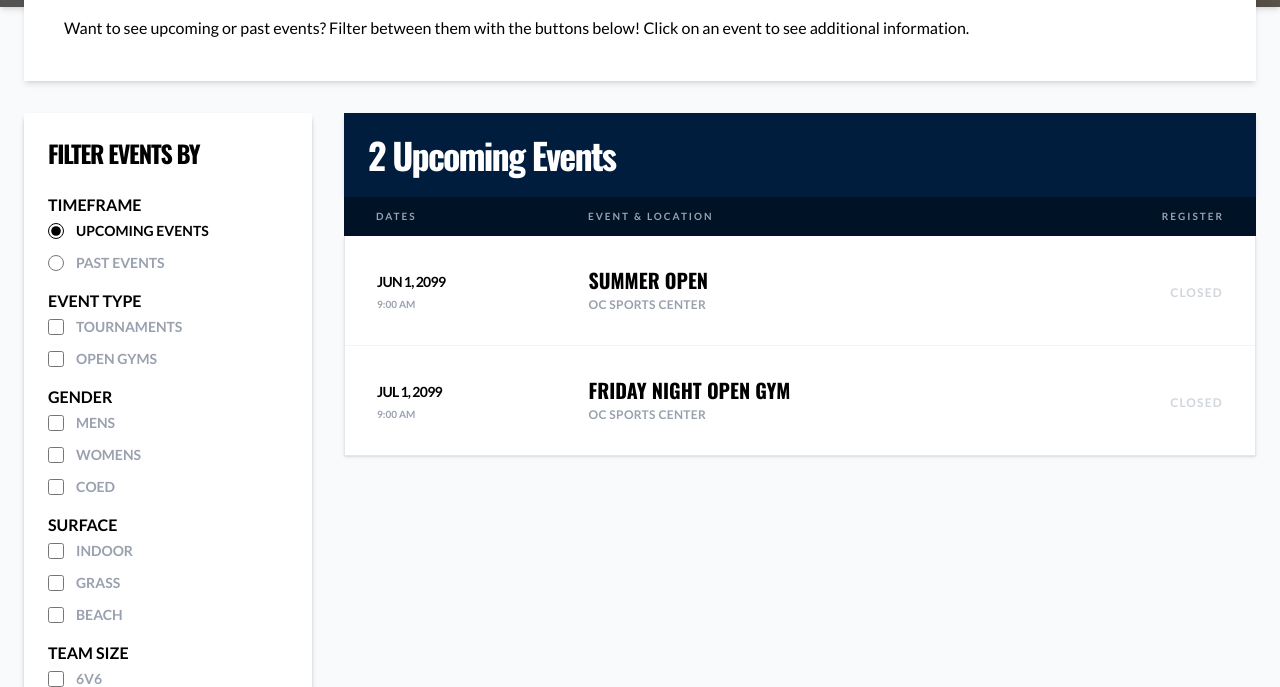
Scenario: EventList › filter — event type › hides open gym events when Tournaments is checked
The width and height of the screenshot is (1280, 687).
(page scrolled)
Click the checkbox labelled "Tournaments".
click(56, 327)  # box [48,319,64,335]
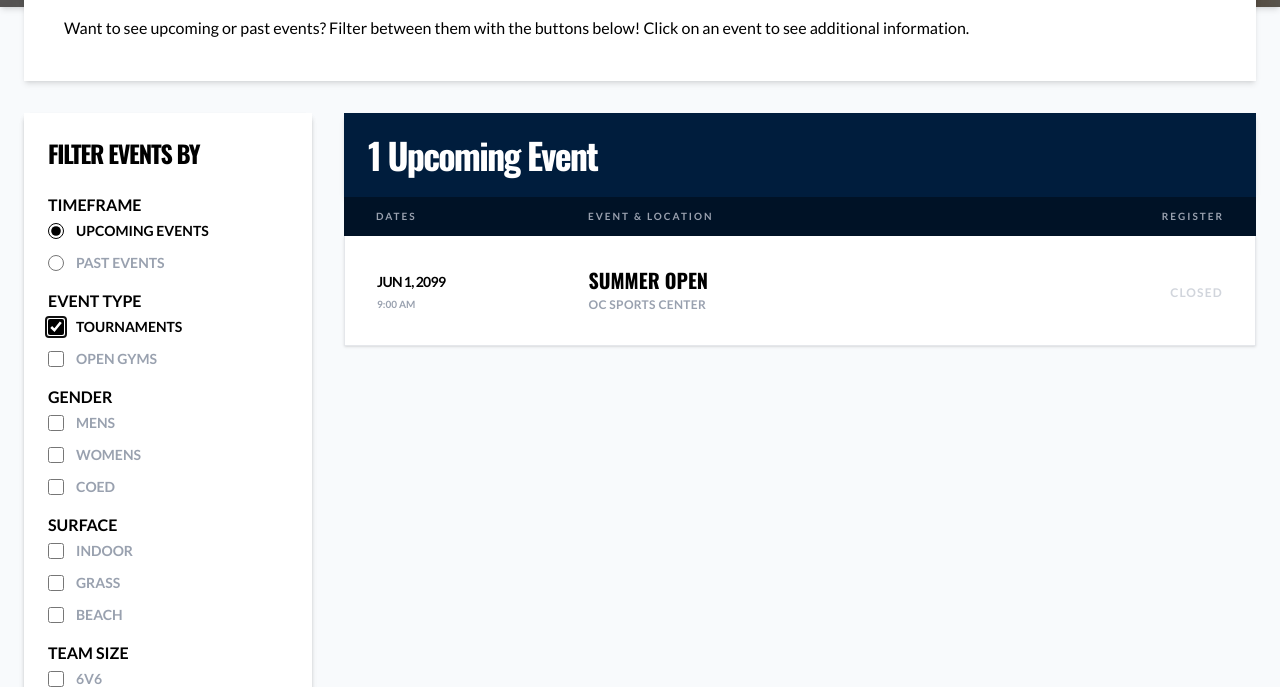
Expected: the heading "Summer Open" is shown, [588,265,708,295]
Expected: the link "Friday Night Open Gym" is gone
